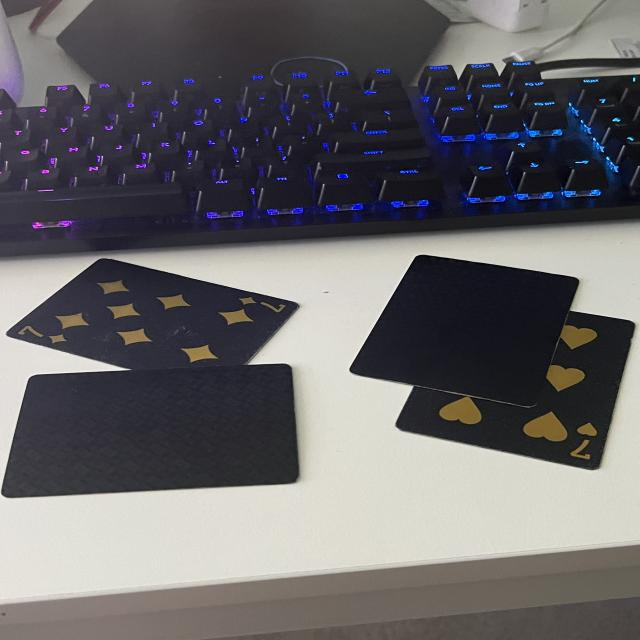7D: (233, 291, 295, 316), (15, 320, 74, 344)
7H: (570, 415, 608, 465)
BACK: (1, 357, 309, 499), (346, 250, 582, 411)
